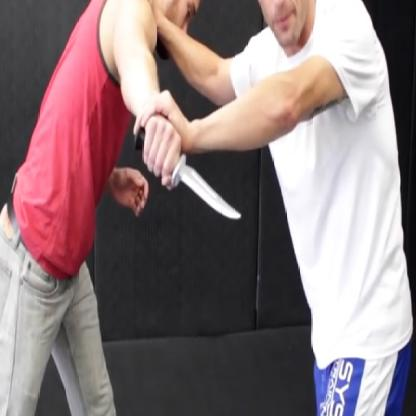knife: (125, 116, 249, 231)
